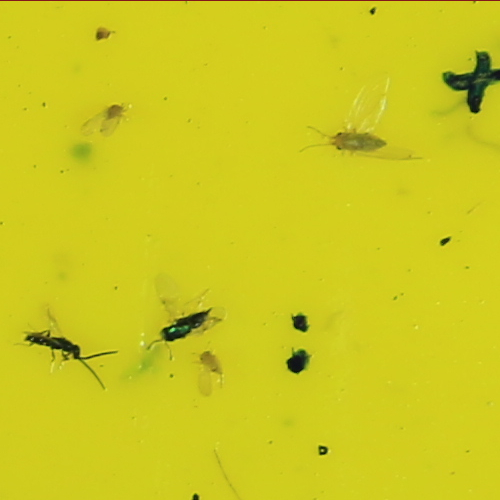Glycaspis: (321, 129, 389, 155)
Psyllaephagus: (158, 304, 215, 344)
